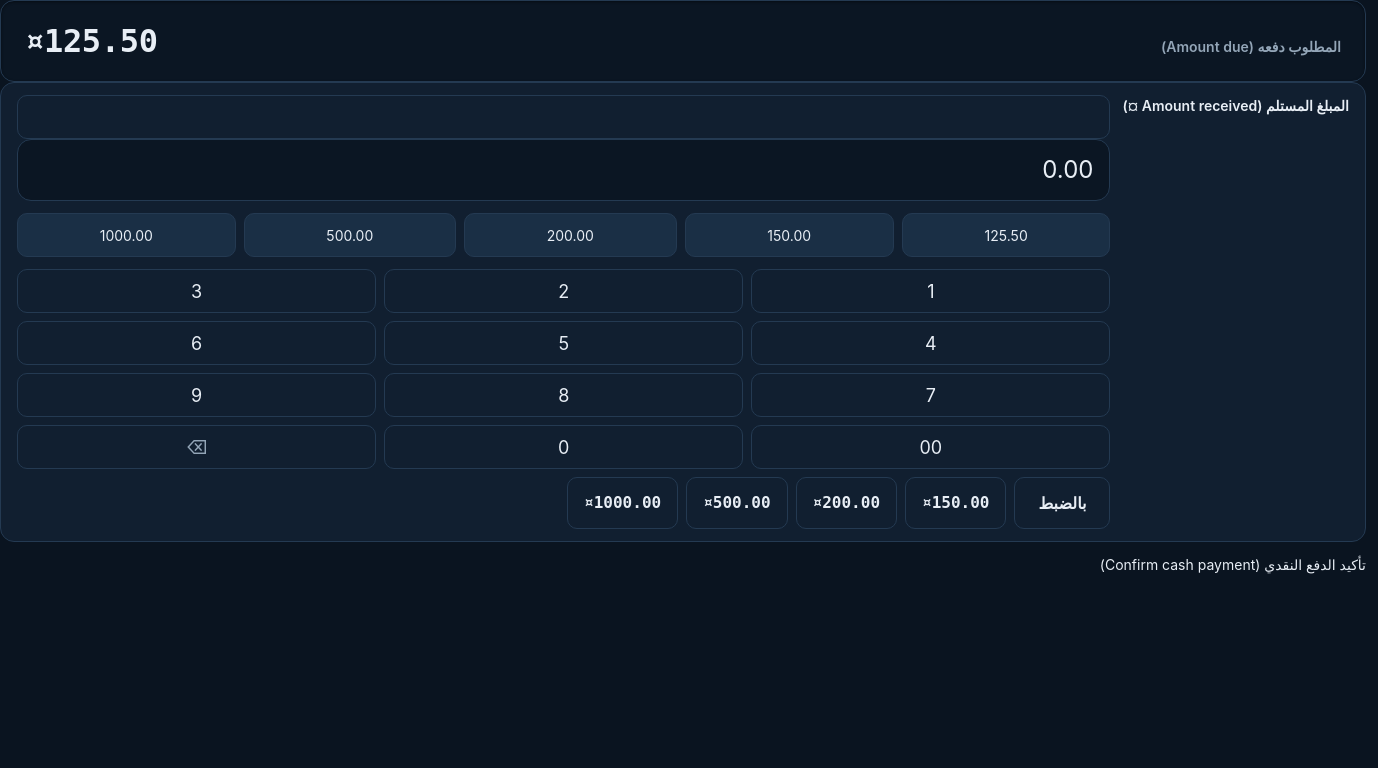
Test: <CashEntry> — under-tender refusal › shows generic "amount is not enough" copy when amount is under remaining
Type "100.00" into the field with test id "cash-entry-amount-input" at (564,117), box [17,95,1110,139]
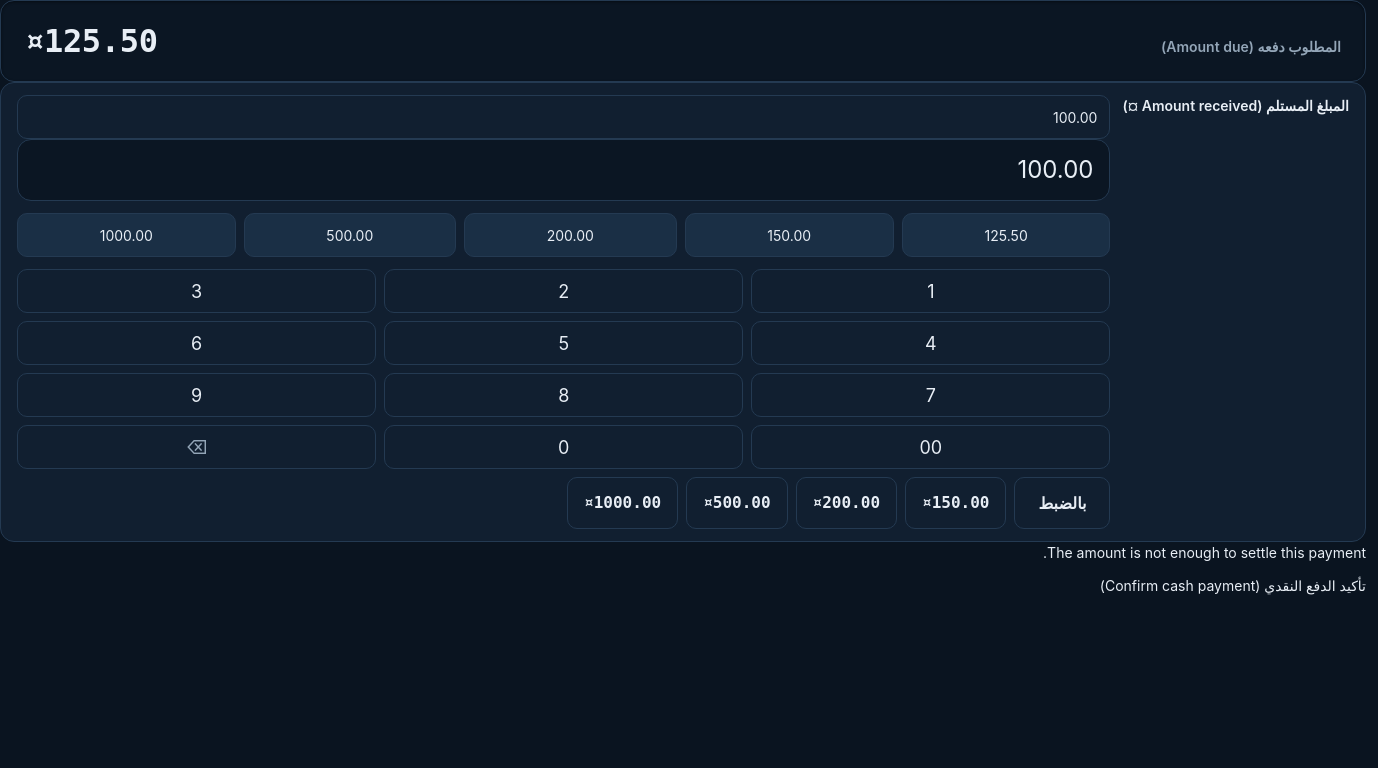
Result: the message with test id "cash-entry-refusal" shows "not enough" at [1043,544,1366,561]
